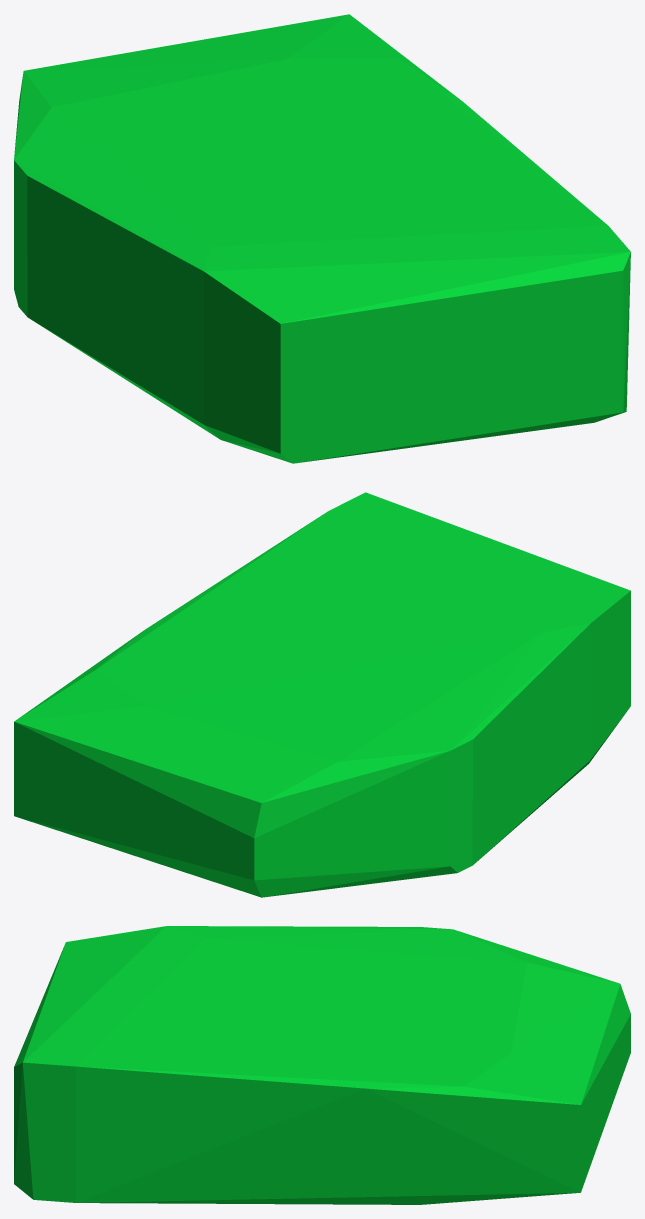
The model's file is model5_convex_piece_004.obj.
The picture shows the model from 3 angles, top to bottom: view 1: azimuth 30°, elevation 25°; view 2: azimuth 150°, elevation 25°; view 3: azimuth 270°, elevation 25°; orthographic projection. The views are drawn at different scales.
Size of the model in its own units: 0.0214 by 0.00811 by 0.0332.
